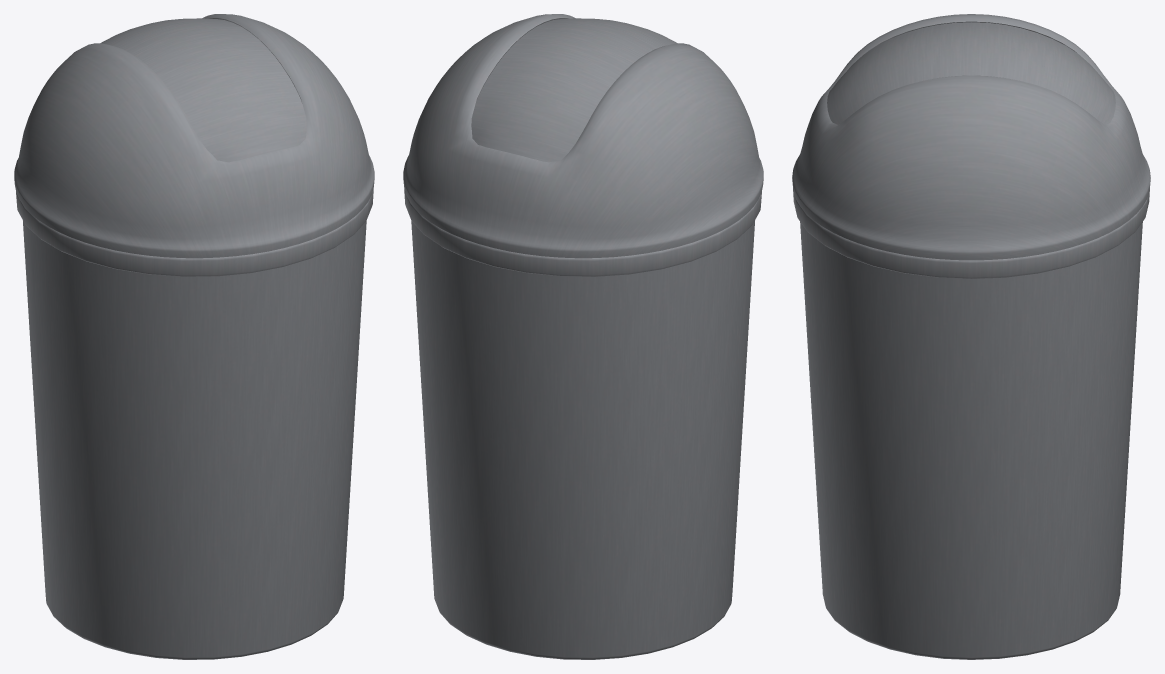
Rendered from simple_bin_-_steel.glb.
The picture shows the model from 3 angles, left to right: view 1: azimuth 30°, elevation 25°; view 2: azimuth 150°, elevation 25°; view 3: azimuth 270°, elevation 25°; orthographic projection.
Parts seen in each view (by area): view 1: SM_bin_base, SM_bin_lids, SM_bin_lids.001; view 2: SM_bin_base, SM_bin_lids, SM_bin_lids.001; view 3: SM_bin_base, SM_bin_lids, SM_bin_lids.001.
Part boxes in pixels (left/top/right/bottom): SM_bin_base: left=16, top=189, right=373, bottom=659; SM_bin_lids: left=14, top=14, right=374, bottom=258; SM_bin_lids.001: left=100, top=18, right=306, bottom=162; SM_bin_base: left=404, top=189, right=761, bottom=659; SM_bin_lids: left=403, top=14, right=763, bottom=258; SM_bin_lids.001: left=471, top=18, right=677, bottom=162; SM_bin_base: left=793, top=188, right=1149, bottom=659; SM_bin_lids: left=792, top=14, right=1150, bottom=260; SM_bin_lids.001: left=827, top=22, right=1115, bottom=124.
Size of the model in its own units: 74.68 by 128 by 74.68.
1 material, 1 textured.
